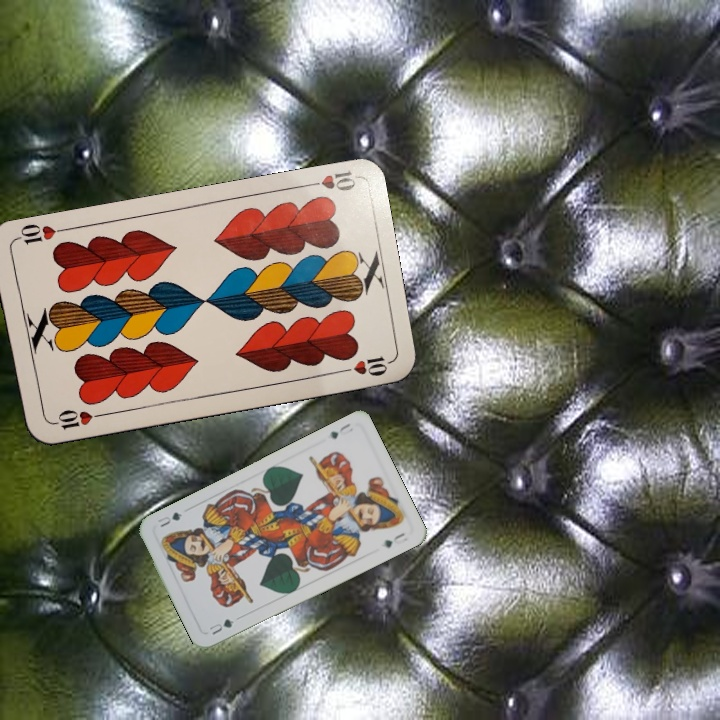GU: (205, 615, 237, 638), (325, 419, 356, 441)
H10: (47, 405, 106, 432), (299, 167, 358, 194)
